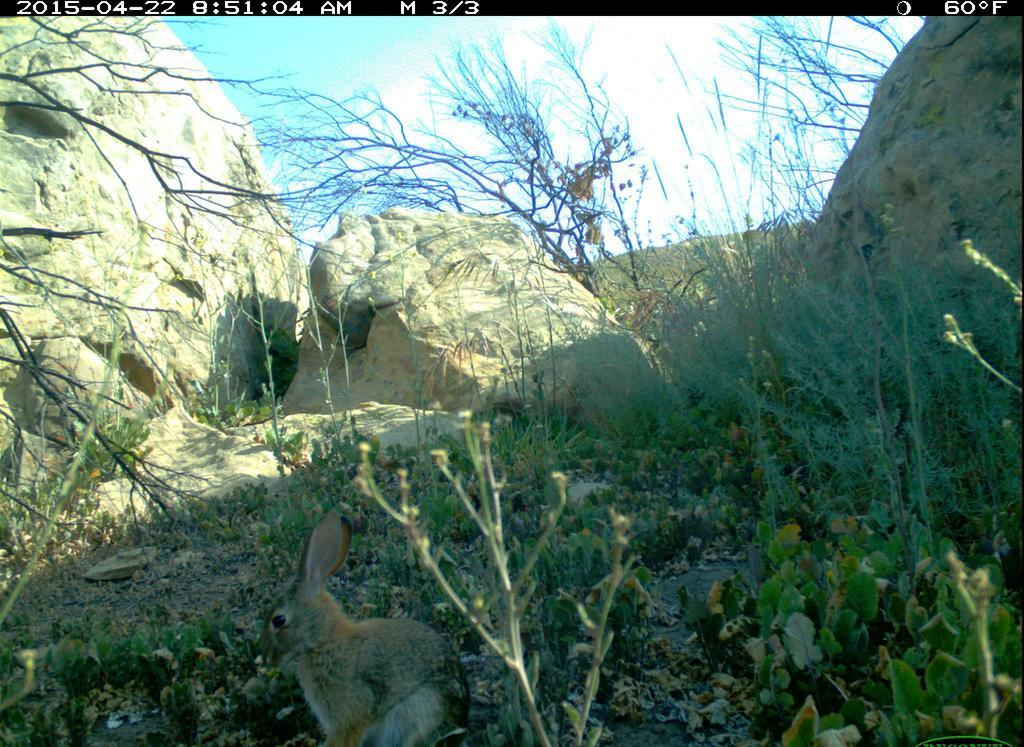rabbit: (245, 502, 478, 739)
